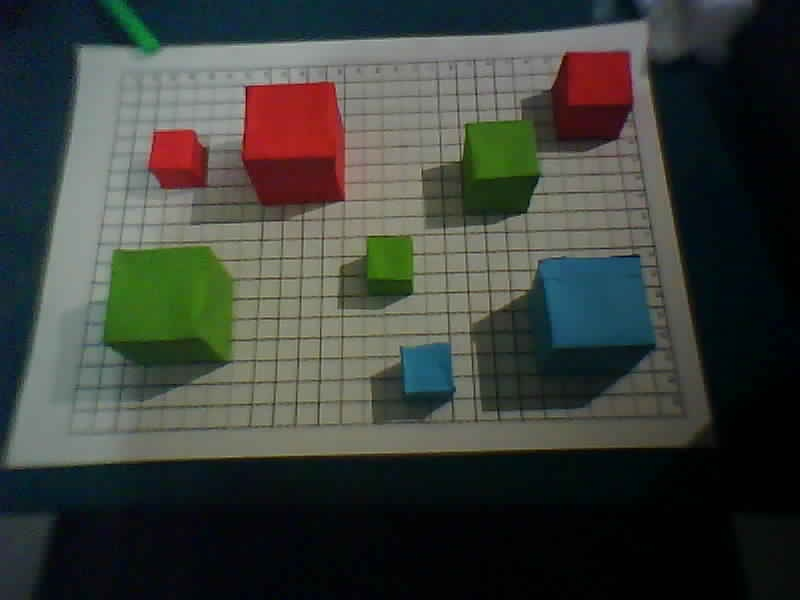LB: (65, 427, 73, 433)
LT: (120, 73, 128, 79)
RB: (682, 413, 690, 419)
RT: (623, 54, 631, 60)
